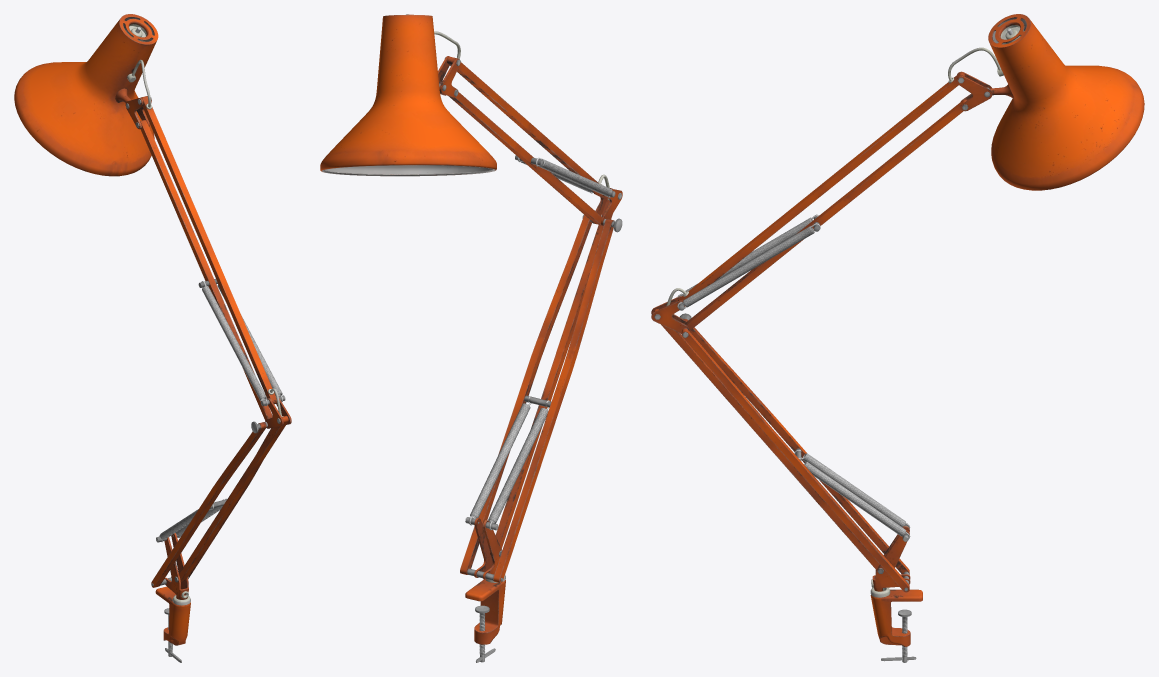
Rendered from desk_lamp_arm_01.glb.
3 views of the same model, side by side, from view 1: azimuth 30°, elevation 25°; view 2: azimuth 150°, elevation 25°; view 3: azimuth 270°, elevation 25° (orthographic). The views are drawn at different scales.
Visible parts, largest first — view 1: desk_lamp_arm_01; view 2: desk_lamp_arm_01; view 3: desk_lamp_arm_01.
Part boxes in pixels (box(x1,y1,x2,y2)): desk_lamp_arm_01: box(14, 14, 291, 662); desk_lamp_arm_01: box(320, 14, 622, 662); desk_lamp_arm_01: box(651, 14, 1144, 662).
Bounding box in the file's own units: 0.2017 × 0.8926 × 0.6139.
2 materials, 2 textured.
